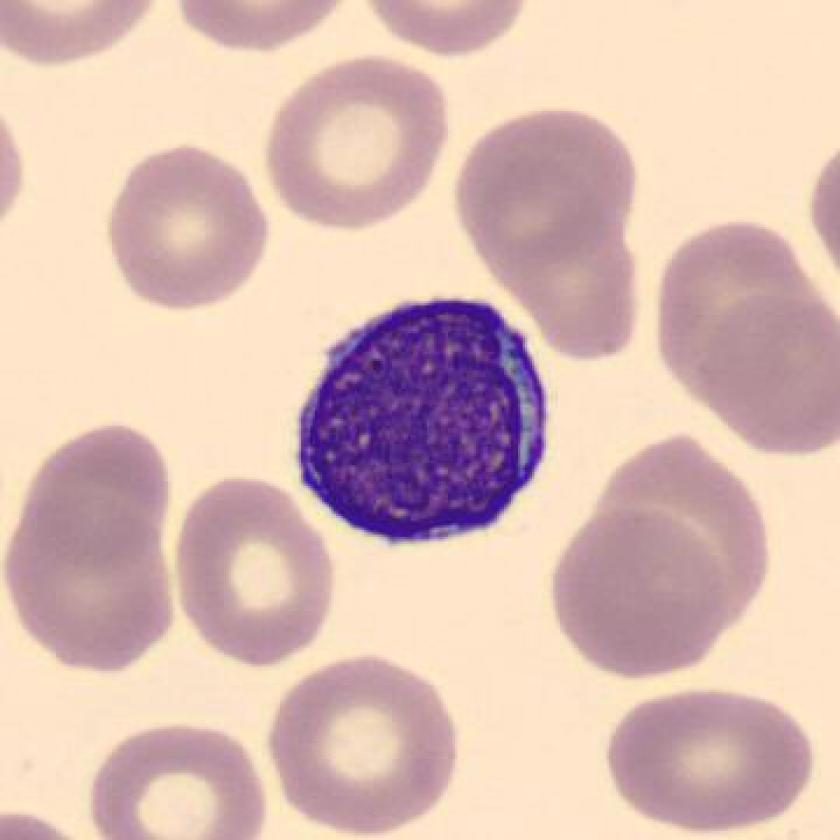lymphocyte: (276, 279, 566, 559)
